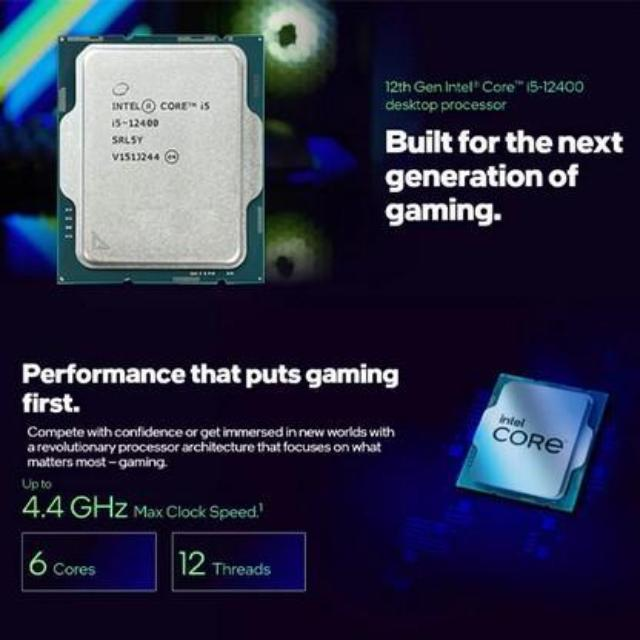CPU: (61, 44, 256, 286)
